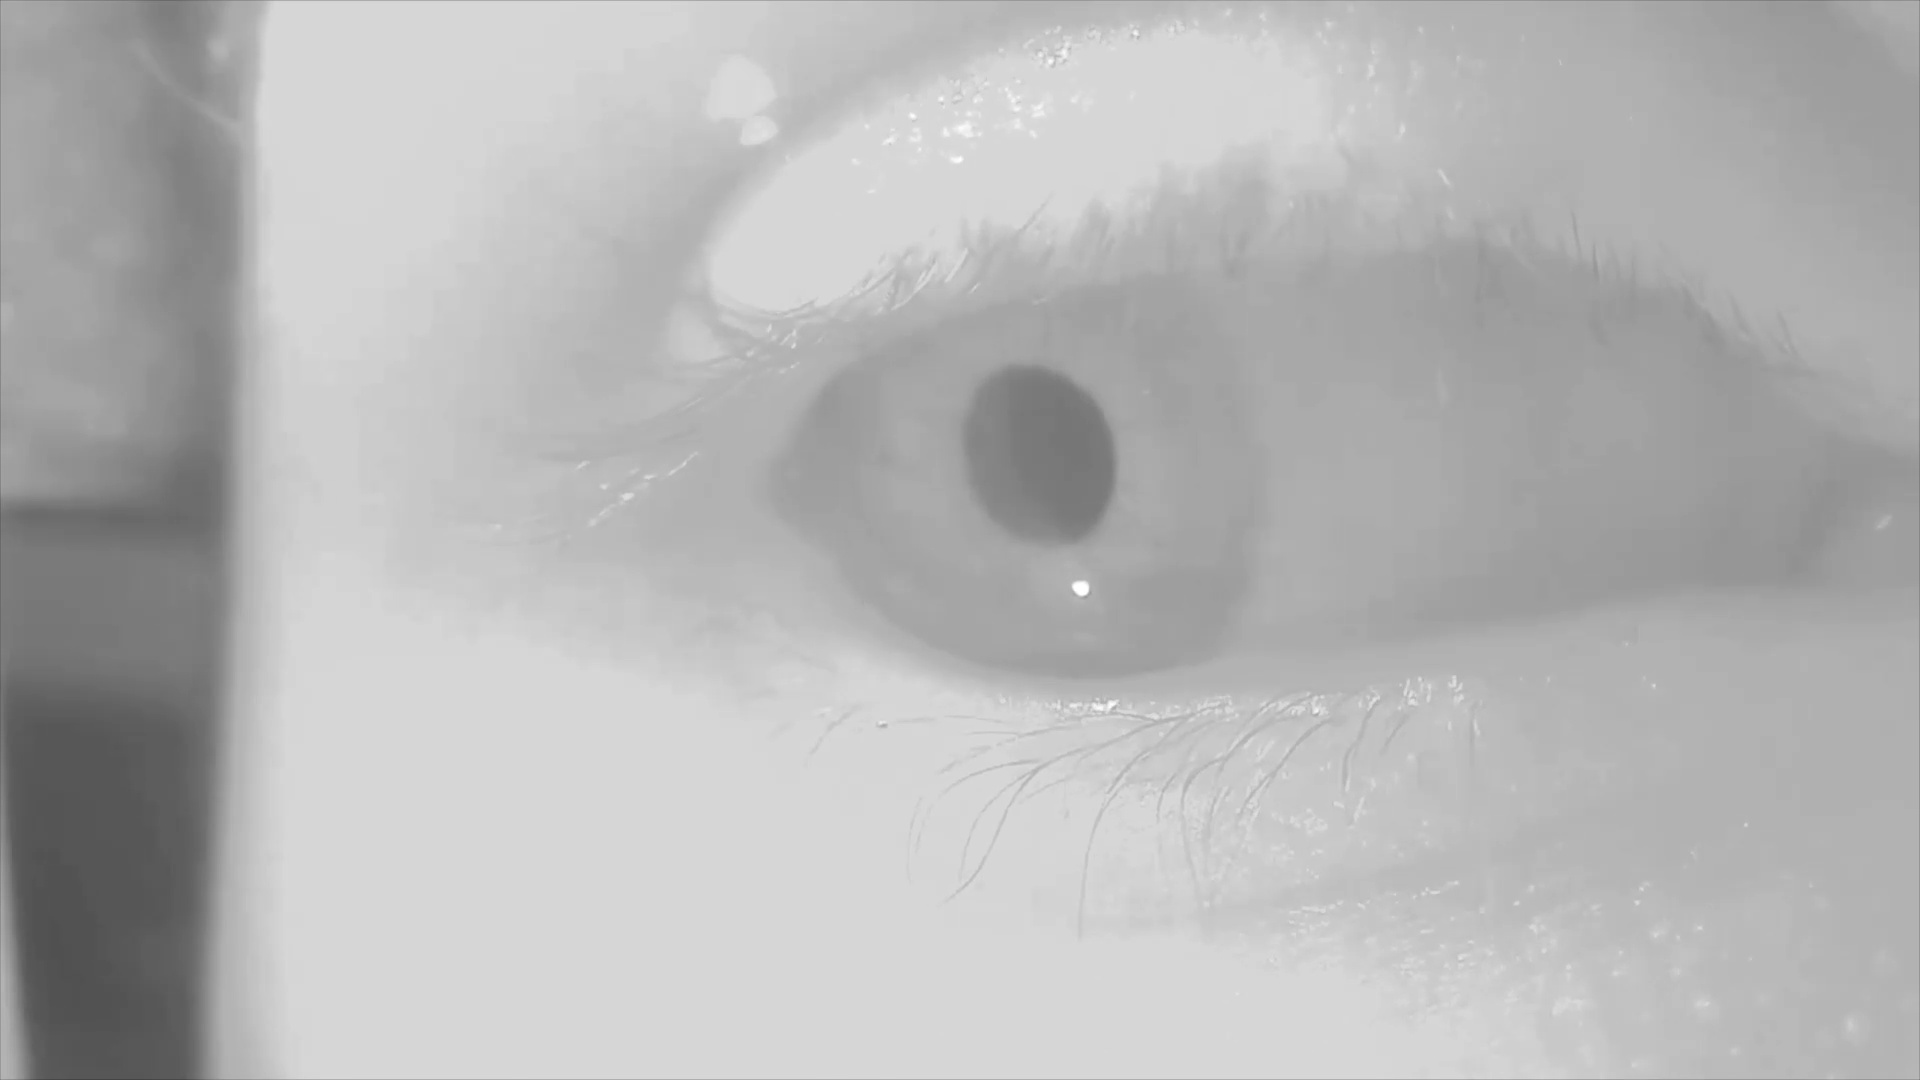pupil: (966, 368, 1117, 550)
